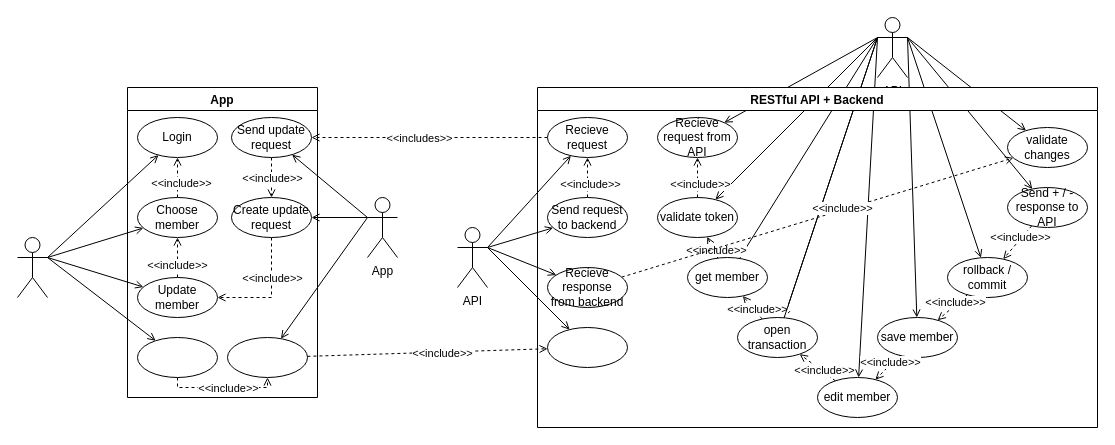
Image size: 1115x445. Some labels were removed from this diagram. The centre of each missing label's shape, as x and y in pixels:
Recieve response: point 267,357
Send response to App: point 587,347
User: point 32,267
View changes: point 177,357
